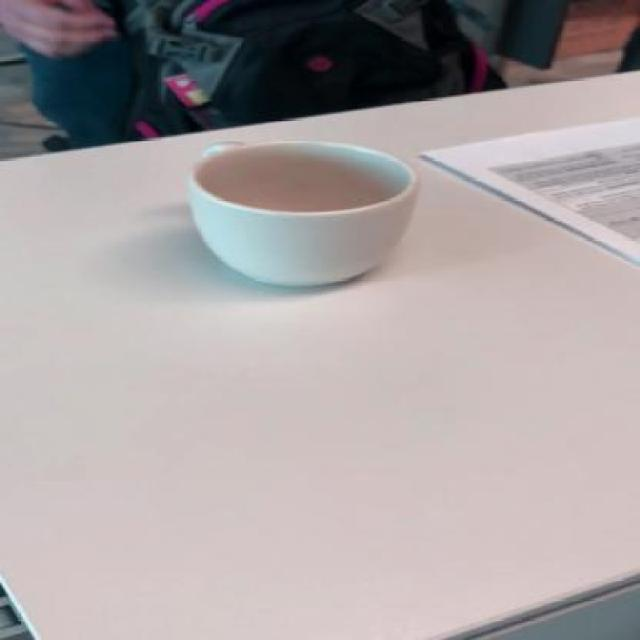cup: (190, 140, 418, 288)
